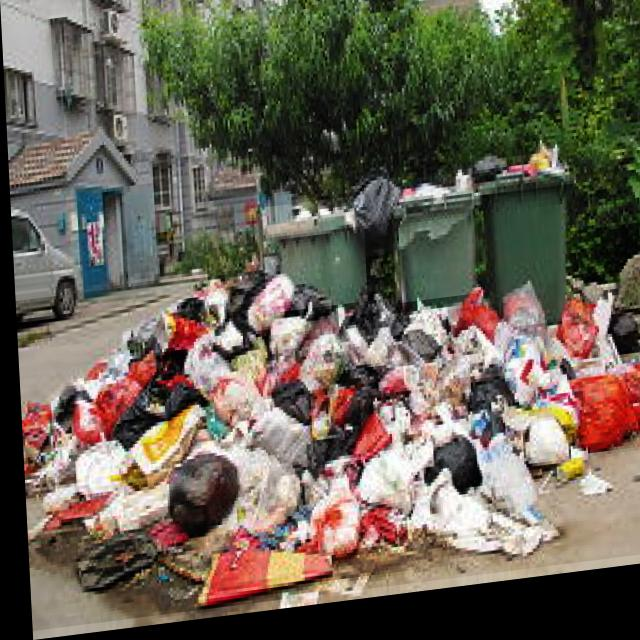garbage: (12, 238, 640, 631)
overflow: (469, 149, 570, 343), (259, 204, 364, 320), (387, 183, 477, 314)
